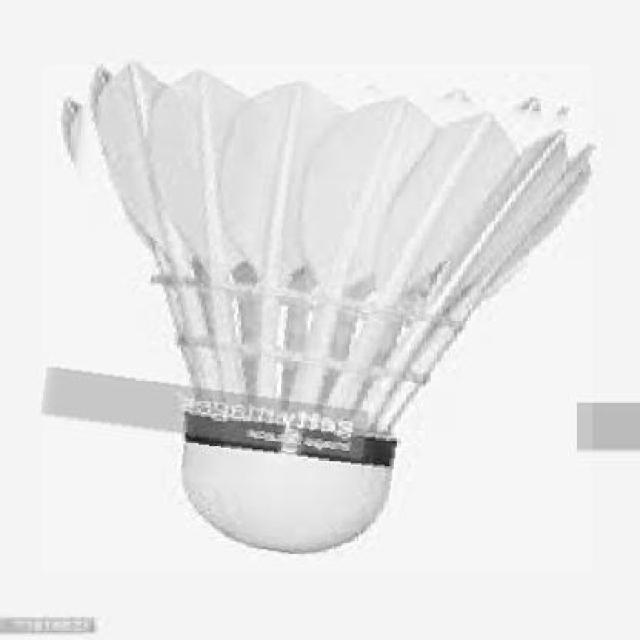Shuttlecock: (41, 64, 592, 574)
